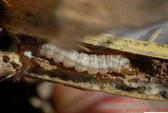pest: (31, 39, 145, 86)
